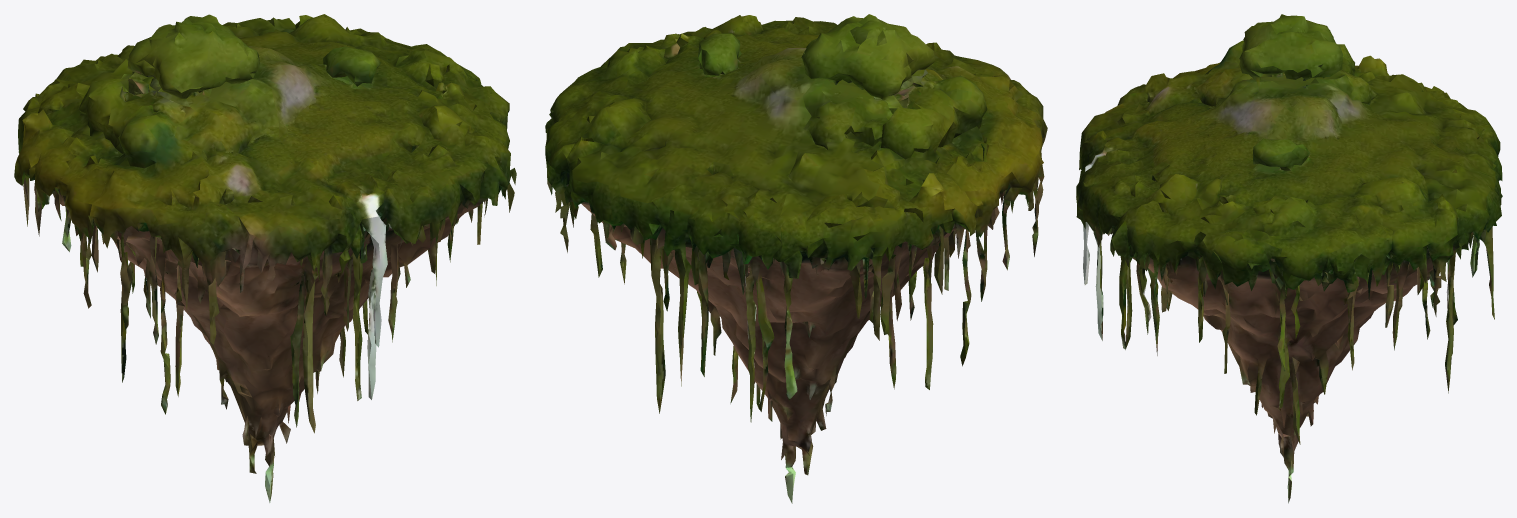
File: isle-falls-hd.glb
3 views of the same model, side by side, from view 1: azimuth 30°, elevation 25°; view 2: azimuth 150°, elevation 25°; view 3: azimuth 270°, elevation 25° (orthographic). The views are drawn at different scales.
Visible parts, largest first — view 1: isle-falls-hd.raw; view 2: isle-falls-hd.raw; view 3: isle-falls-hd.raw.
Part boxes in pixels (x1,y1,x2,y2): isle-falls-hd.raw: (14, 14, 516, 502); isle-falls-hd.raw: (545, 14, 1047, 503); isle-falls-hd.raw: (1076, 14, 1502, 503).
Size of the model in its own units: 9.16 by 10 by 8.59.
1 material, 1 textured.
